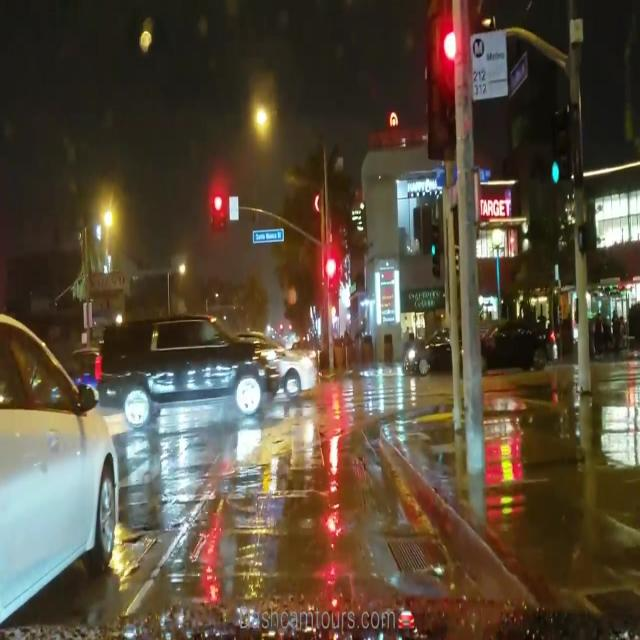Car: (2, 313, 113, 631), (98, 319, 275, 429), (482, 321, 551, 369), (402, 325, 449, 371)
